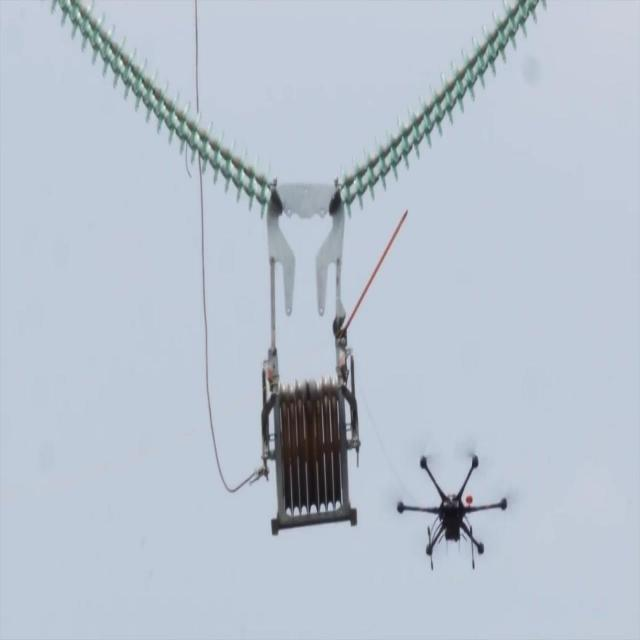UAV: (397, 452, 508, 570)
